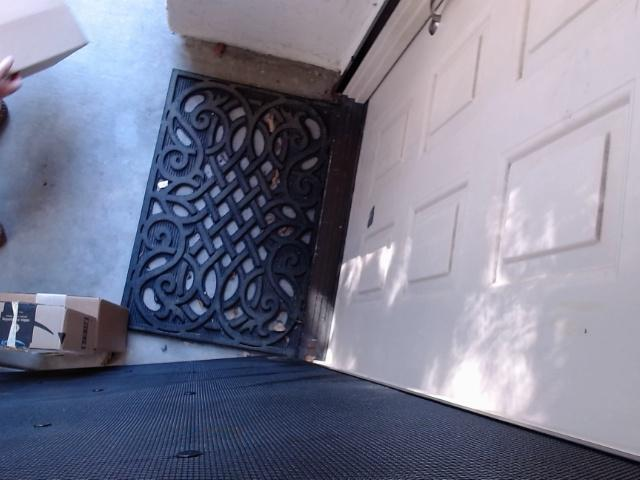box: (0, 271, 138, 380), (0, 0, 114, 75), (0, 297, 106, 355)
